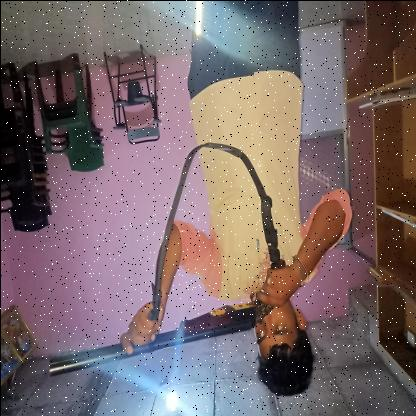rifle: (45, 254, 289, 378)
